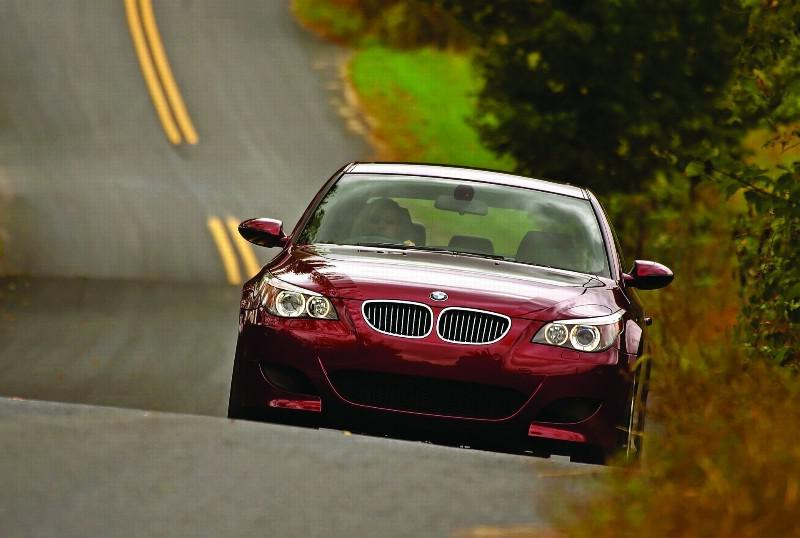Car: (184, 144, 689, 468)
